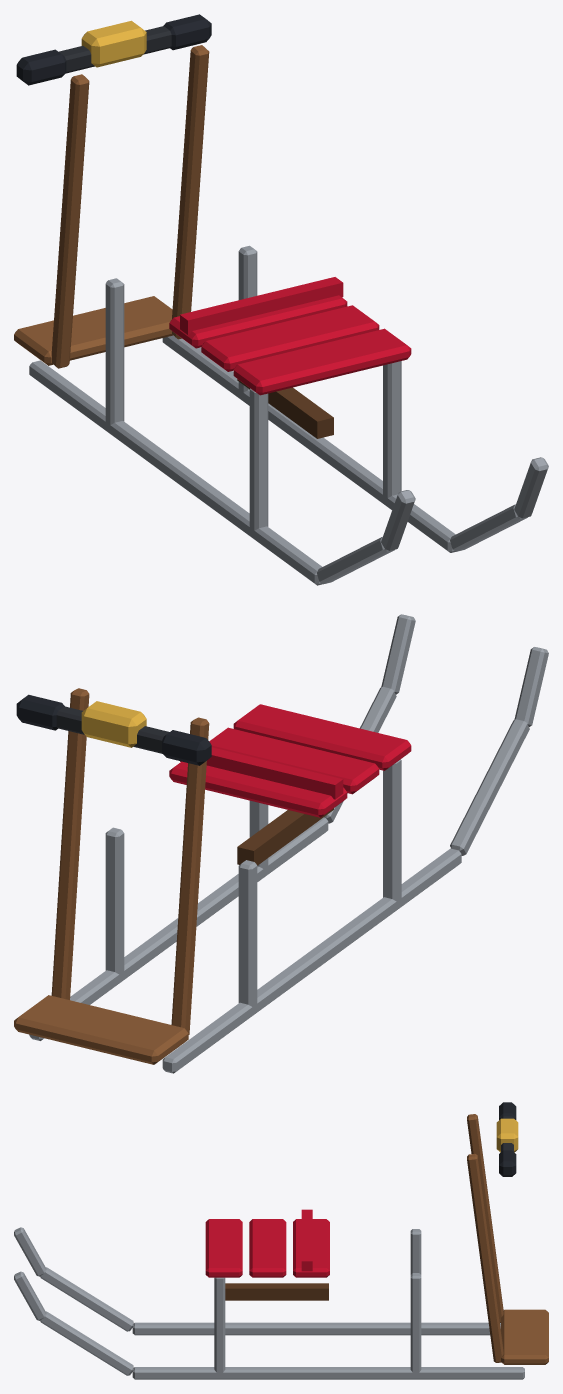
The model's file is kick_sled.glb.
3 views of the same model, one above another, from view 1: azimuth 30°, elevation 25°; view 2: azimuth 150°, elevation 25°; view 3: azimuth 270°, elevation 25° (orthographic). The views are drawn at different scales.
Visible parts, largest first — view 1: kick_sled; view 2: kick_sled; view 3: kick_sled.
Part boxes in pixels (x1,y1,x2,y2): kick_sled: [14, 14, 548, 585]; kick_sled: [14, 614, 548, 1073]; kick_sled: [14, 1102, 548, 1379].
Size of the model in its own units: 0.68 by 1.16 by 2.45.
